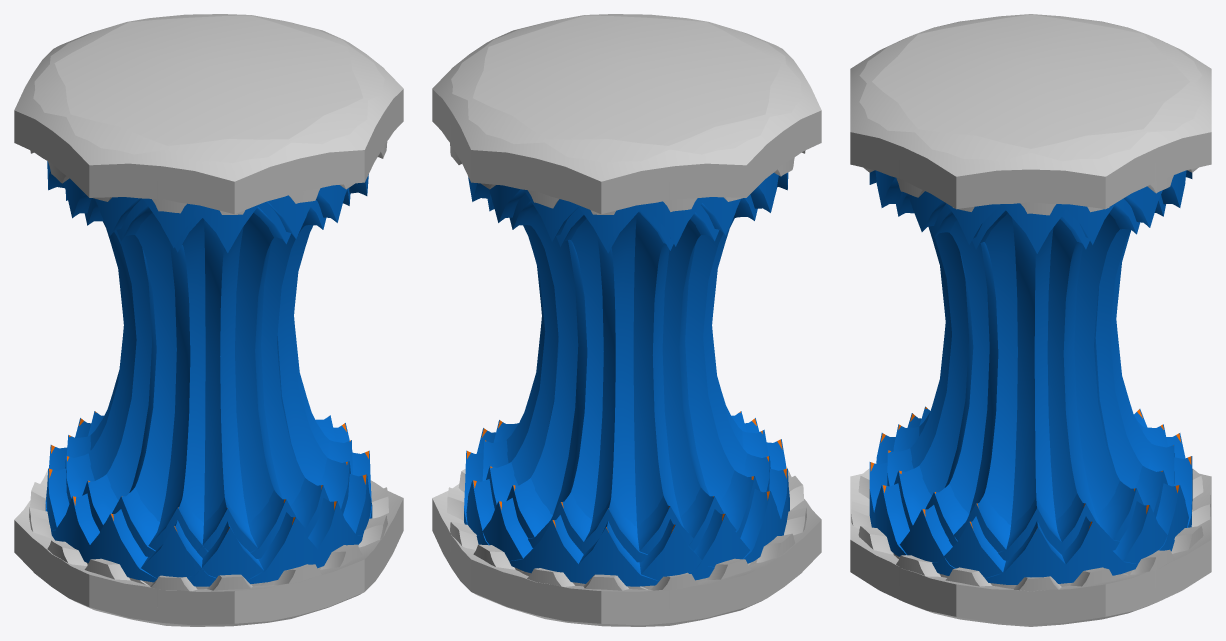
Rendered from Glasshour Opaque.obj.
The picture shows the model from 3 angles, left to right: view 1: azimuth 30°, elevation 25°; view 2: azimuth 150°, elevation 25°; view 3: azimuth 270°, elevation 25°; orthographic projection.
Parts seen in each view (by area): view 1: Glass1, Frame1; view 2: Glass1, Frame1; view 3: Glass1, Frame1.
Part boxes in pixels (x1=…): Glass1: x1=45, y1=161, x2=372, y2=586; Frame1: x1=14, y1=14, x2=403, y2=626; Glass1: x1=464, y1=172, x2=789, y2=586; Frame1: x1=432, y1=14, x2=821, y2=626; Glass1: x1=869, y1=170, x2=1192, y2=584; Frame1: x1=850, y1=14, x2=1211, y2=626.
Size of the model in its own units: 2 by 3.1 by 2.
